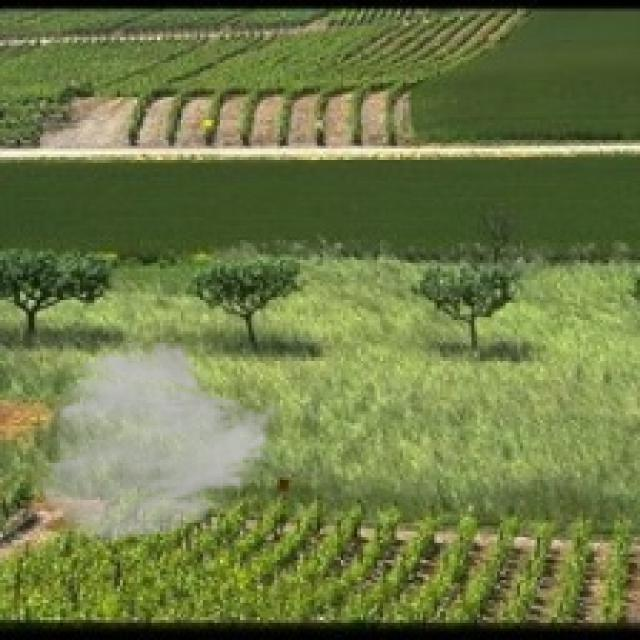Smoke: (34, 337, 286, 546)
